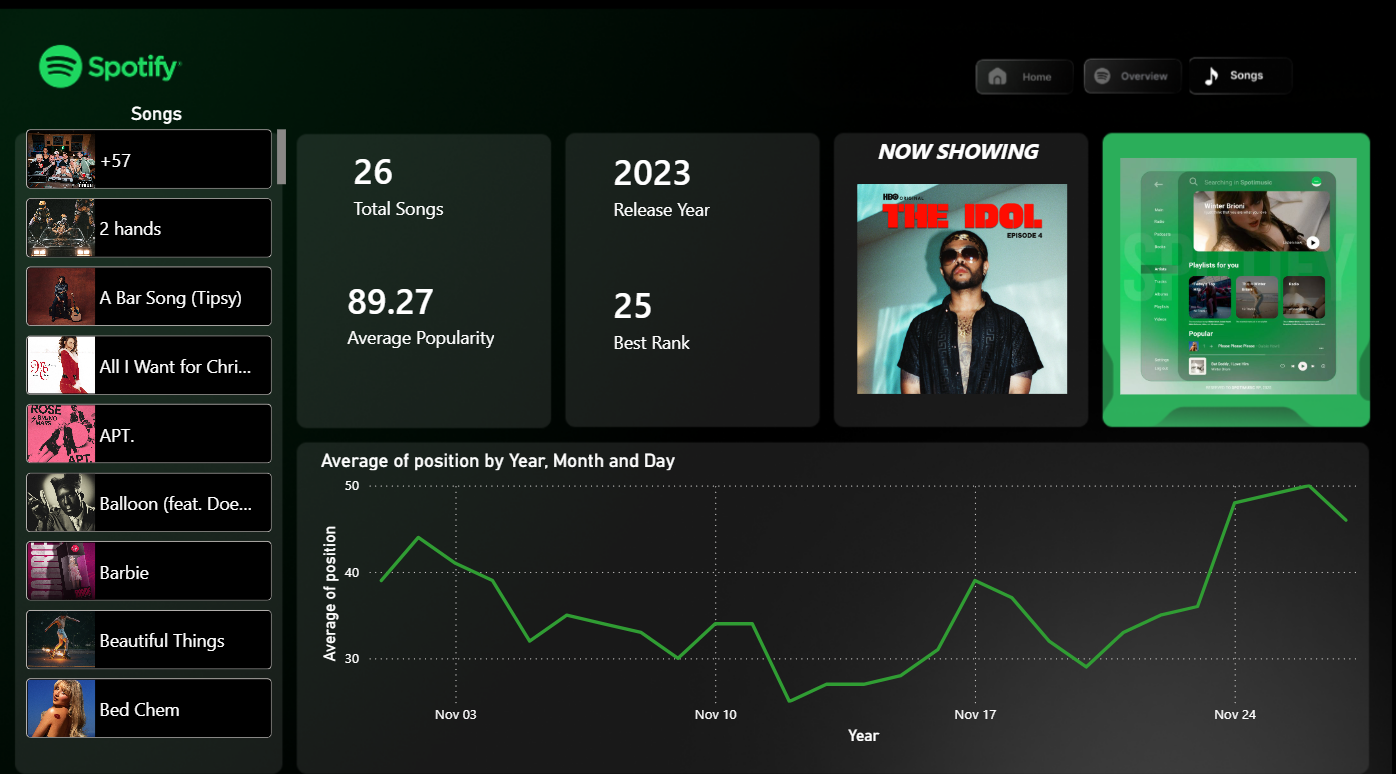

The dashboard page shown, as its layout file describes it:
{"tool":"powerbi","page":{"name":"Songs","canvas":[1280,720],"ordinal":2},"visuals":[{"type":"cardVisual","fields":{"Data":["_Measures.Best Rank"]},"box":[530.5,250.8,220.7,109.1],"z":0},{"type":"cardVisual","fields":{"Data":["_Measures.Average Popularity"]},"box":[289.7,250.8,220.7,101.6],"z":1000},{"type":"cardVisual","fields":{"Data":["Top-50-world.Release Year"]},"box":[530.5,126.7,217,117.9],"z":2000},{"type":"cardVisual","fields":{"Data":["_Measures.Total Songs"]},"box":[296,126.7,214.5,114.1],"z":3000},{"type":"image","box":[786.4,163,213.2,189.4],"z":4000},{"type":"textbox","box":[798.9,111.6,165.6,45.2],"z":5000},{"type":"advancedSlicerVisual","title":"Songs","fields":{"Values":["Top-50-world.song"]},"box":[23.8,111.6,245.8,584.4],"z":6000},{"type":"lineChart","fields":{"Y":["Avg(Top-50-world.position)"],"Category":["Top-50-world.date.Variation.Date Hierarchy.Year","Top-50-world.date.Variation.Date Hierarchy.Month","Top-50-world.date.Variation.Date Hierarchy.Day"]},"box":[289.7,403.8,955.7,272.2],"z":7000},{"type":"image","box":[1028.4,97.8,213.2,283.4],"z":7001}]}

Visuals, with their boxes on the page's 1280x720 design canvas (x1, y1, x2, y2). These are canvas units, not pixel positions in the 1396x774 screenshot, which may show the page scaled, cropped or inside an application window:
cardVisual - _Measures.Best Rank: 530:251:751:360
cardVisual - _Measures.Average Popularity: 290:251:510:352
cardVisual - Top-50-world.Release Year: 530:127:748:245
cardVisual - _Measures.Total Songs: 296:127:510:241
image: 786:163:1000:352
textbox: 799:112:964:157
"Songs" advancedSlicerVisual: 24:112:270:696
lineChart - Avg(Top-50-world.position) x Top-50-world.date.Variation.Date Hierarchy.Year: 290:404:1245:676
image: 1028:98:1242:381
